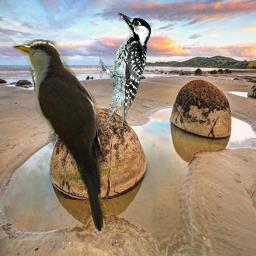Cuckoo: (12, 39, 110, 236)
Woodpecker: (99, 11, 151, 129)
